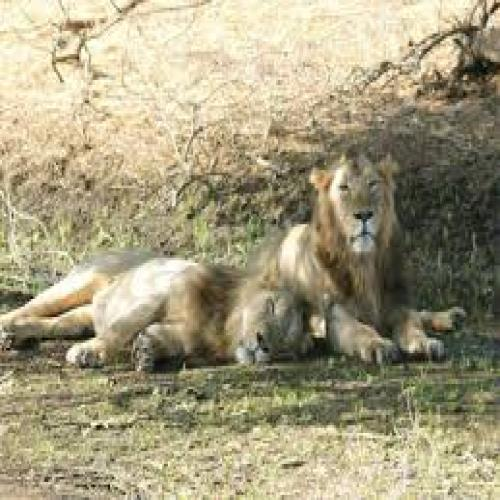lion-endangered: (231, 152, 466, 363), (0, 248, 321, 378)
